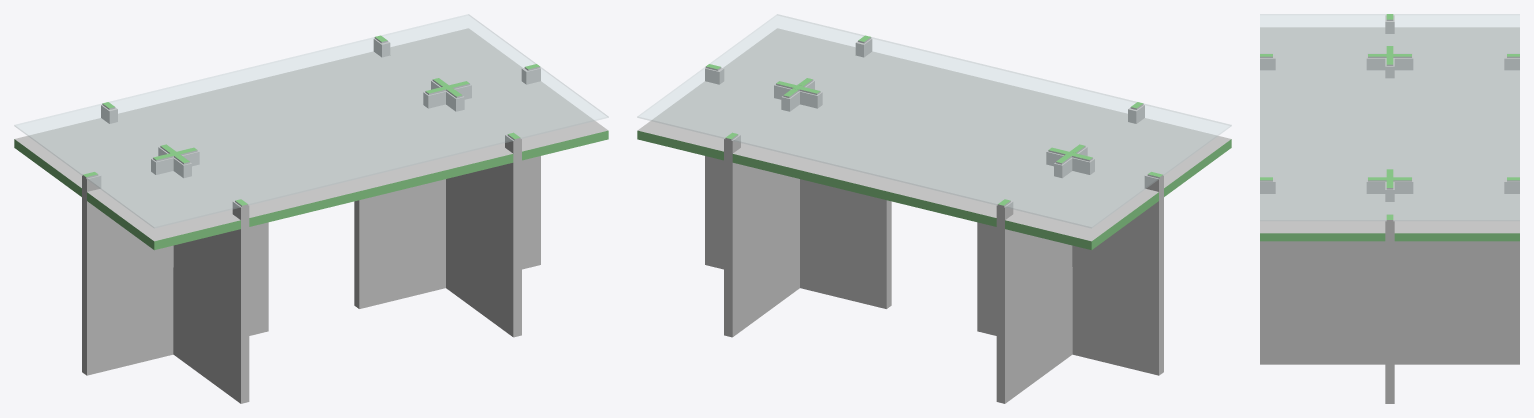
The model's file is 03-school.glb.
3 views of the same model, side by side, from view 1: azimuth 30°, elevation 25°; view 2: azimuth 150°, elevation 25°; view 3: azimuth 270°, elevation 25° (orthographic). The views are drawn at different scales.
Parts seen in each view (by area): view 1: 01 通长桌板｜双十字穿槽与定位盲槽, 齐边玻璃｜5.26 mm, 左横撑｜750 mm｜下开槽与桌板穿榫, 右横撑｜750 mm｜下开槽与桌板穿榫, 左纵撑｜上开槽与桌板穿榫, 右纵撑｜上开槽与桌板穿榫; view 2: 01 通长桌板｜双十字穿槽与定位盲槽, 齐边玻璃｜5.26 mm, 左横撑｜750 mm｜下开槽与桌板穿榫, 右横撑｜750 mm｜下开槽与桌板穿榫, 左纵撑｜上开槽与桌板穿榫, 右纵撑｜上开槽与桌板穿榫; view 3: 齐边玻璃｜5.26 mm, 01 通长桌板｜双十字穿槽与定位盲槽, 右纵撑｜上开槽与桌板穿榫, 右横撑｜750 mm｜下开槽与桌板穿榫, 左纵撑｜上开槽与桌板穿榫, 左横撑｜750 mm｜下开槽与桌板穿榫.
Boxes of the visible parts, bbox=[...] form: 01 通长桌板｜双十字穿槽与定位盲槽: bbox=[14, 28, 608, 250]; 齐边玻璃｜5.26 mm: bbox=[14, 14, 608, 228]; 左横撑｜750 mm｜下开槽与桌板穿榫: bbox=[82, 147, 268, 375]; 右横撑｜750 mm｜下开槽与桌板穿榫: bbox=[354, 64, 540, 308]; 左纵撑｜上开槽与桌板穿榫: bbox=[101, 102, 249, 403]; 右纵撑｜上开槽与桌板穿榫: bbox=[373, 35, 521, 337]; 01 通长桌板｜双十字穿槽与定位盲槽: bbox=[637, 28, 1231, 250]; 齐边玻璃｜5.26 mm: bbox=[637, 14, 1231, 228]; 左横撑｜750 mm｜下开槽与桌板穿榫: bbox=[977, 147, 1163, 375]; 右横撑｜750 mm｜下开槽与桌板穿榫: bbox=[705, 64, 891, 308]; 左纵撑｜上开槽与桌板穿榫: bbox=[996, 102, 1144, 403]; 右纵撑｜上开槽与桌板穿榫: bbox=[724, 35, 872, 337]; 齐边玻璃｜5.26 mm: bbox=[1260, 14, 1519, 220]; 01 通长桌板｜双十字穿槽与定位盲槽: bbox=[1260, 27, 1519, 241]; 右纵撑｜上开槽与桌板穿榫: bbox=[1260, 177, 1519, 364]; 右横撑｜750 mm｜下开槽与桌板穿榫: bbox=[1385, 169, 1394, 403]; 左纵撑｜上开槽与桌板穿榫: bbox=[1260, 54, 1519, 70]; 左横撑｜750 mm｜下开槽与桌板穿榫: bbox=[1385, 14, 1394, 78].
Size of the model in its own units: 1.88 by 0.781 by 1.
